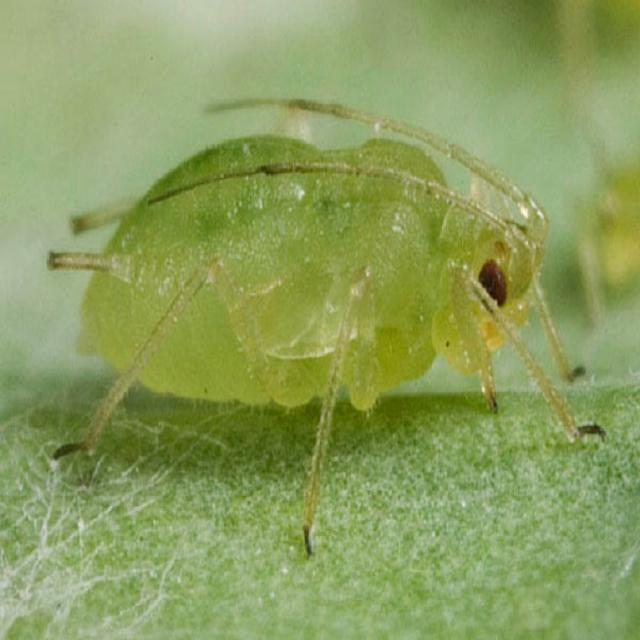Aphids: (39, 79, 618, 587)
